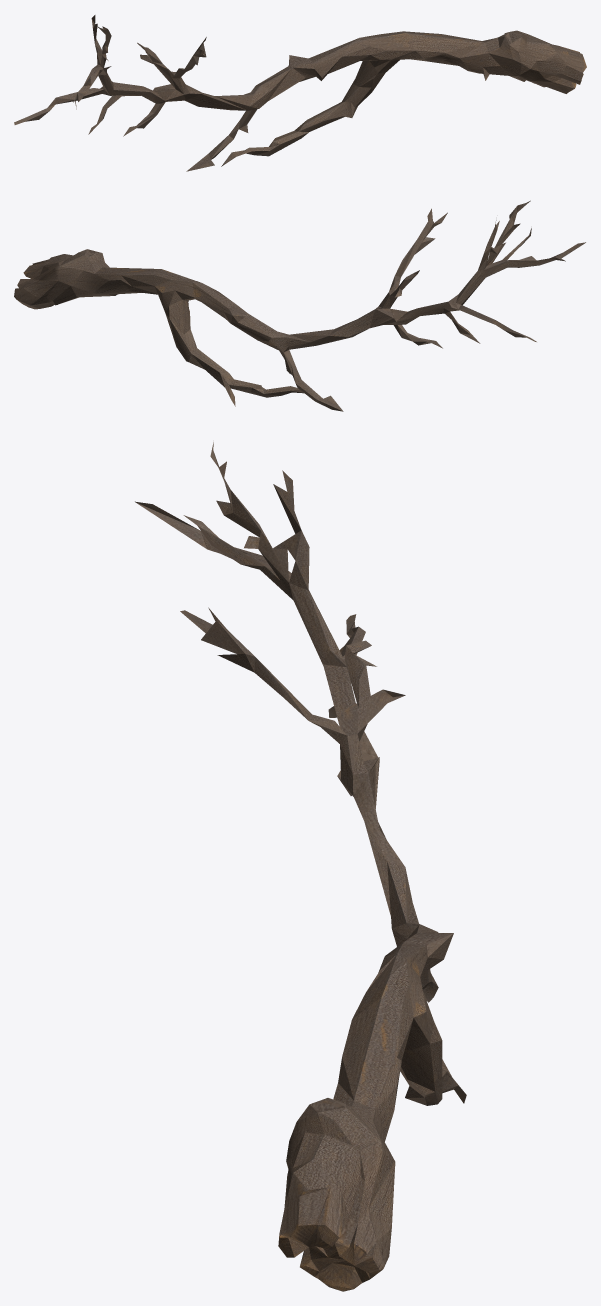
Rendered from branch.glb.
3 renders of one model, top to bottom at view 1: azimuth 30°, elevation 25°; view 2: azimuth 150°, elevation 25°; view 3: azimuth 270°, elevation 25°, orthographic. The views are drawn at different scales.
Size of the model in its own units: 1.9 by 0.7636 by 0.5282.
Materials: 1 (1 with a texture image).
